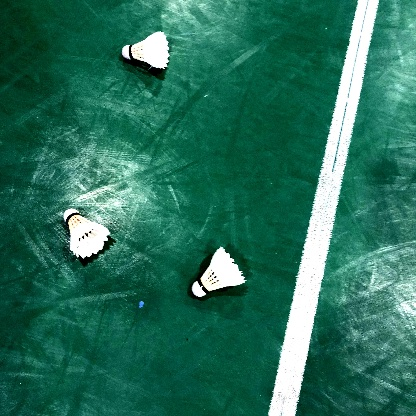ball_single: (191, 247, 246, 297), (64, 209, 110, 258), (122, 31, 170, 69)
